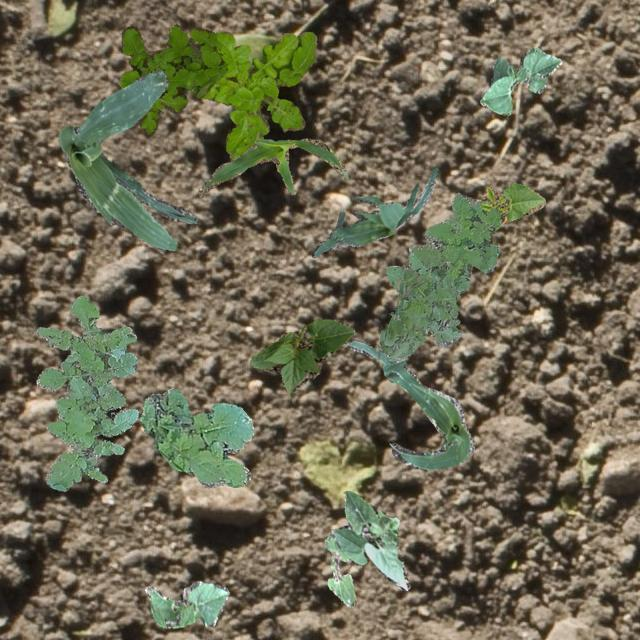crop: (56, 70, 196, 252), (342, 339, 474, 468), (310, 166, 436, 256), (198, 138, 348, 198), (248, 318, 354, 396), (330, 490, 410, 590), (478, 46, 560, 115), (144, 580, 228, 626), (476, 182, 544, 226), (324, 532, 354, 606)
weed: (378, 192, 499, 360), (36, 294, 138, 490), (202, 30, 316, 160), (118, 23, 226, 134), (138, 386, 254, 486)
